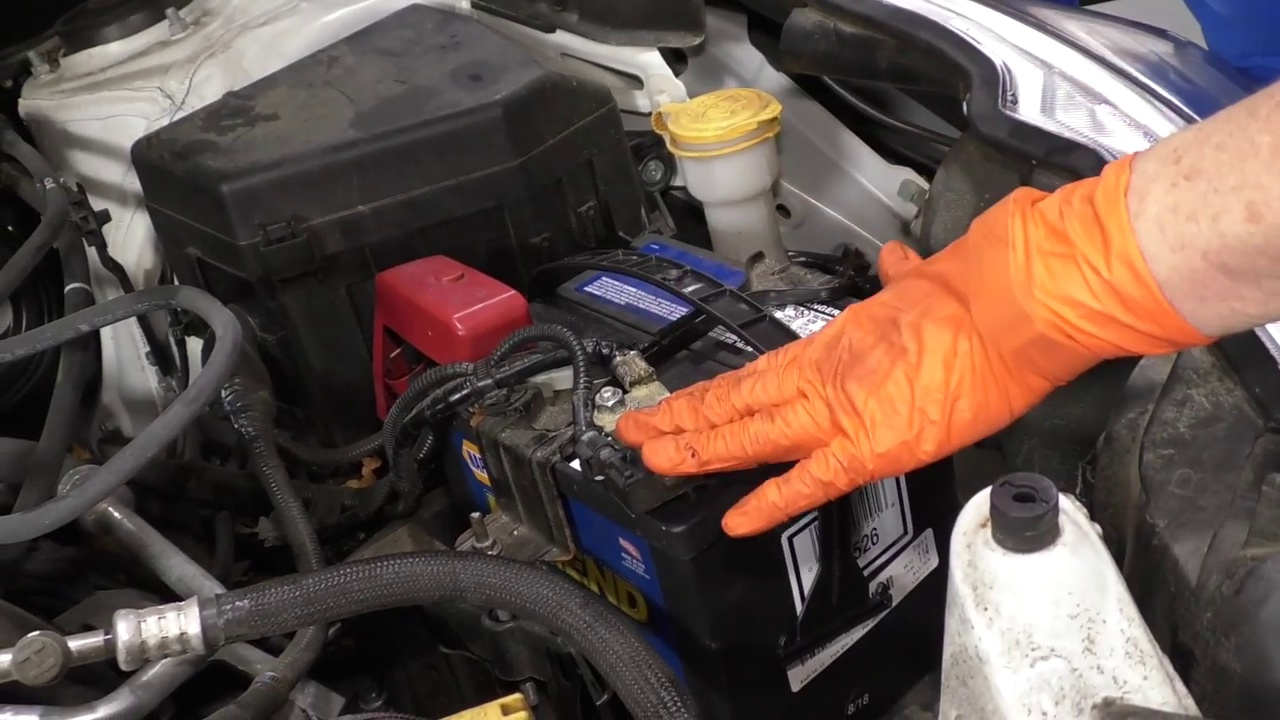battery: (407, 228, 850, 540)
pos_connected: (361, 242, 547, 411)
